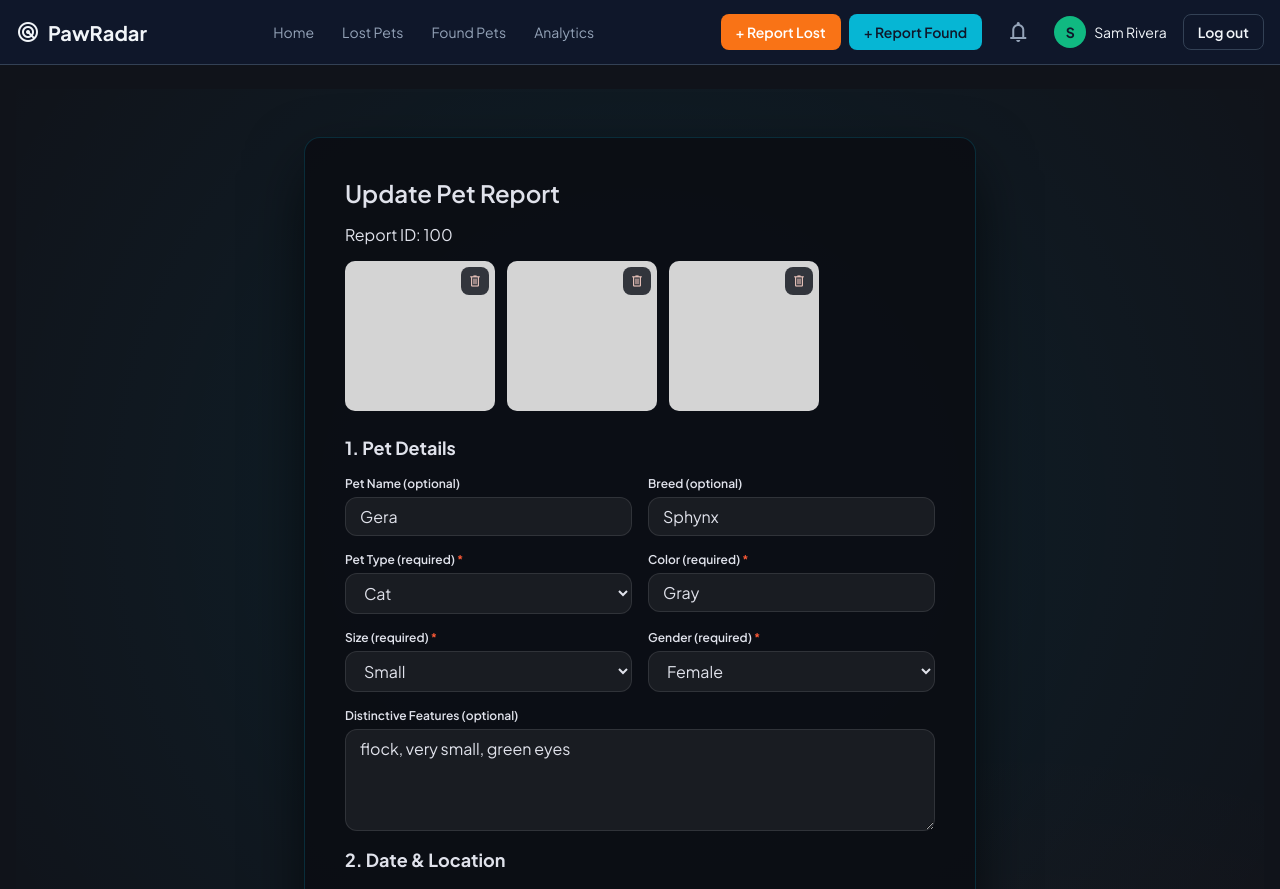
Test: UpdateReportPage › 10. increases available photo slots when an existing photo is removed
The width and height of the screenshot is (1280, 889).
Click the button named "Remove photo 1": (475, 281) [461,267,489,295]
(page scrolled)
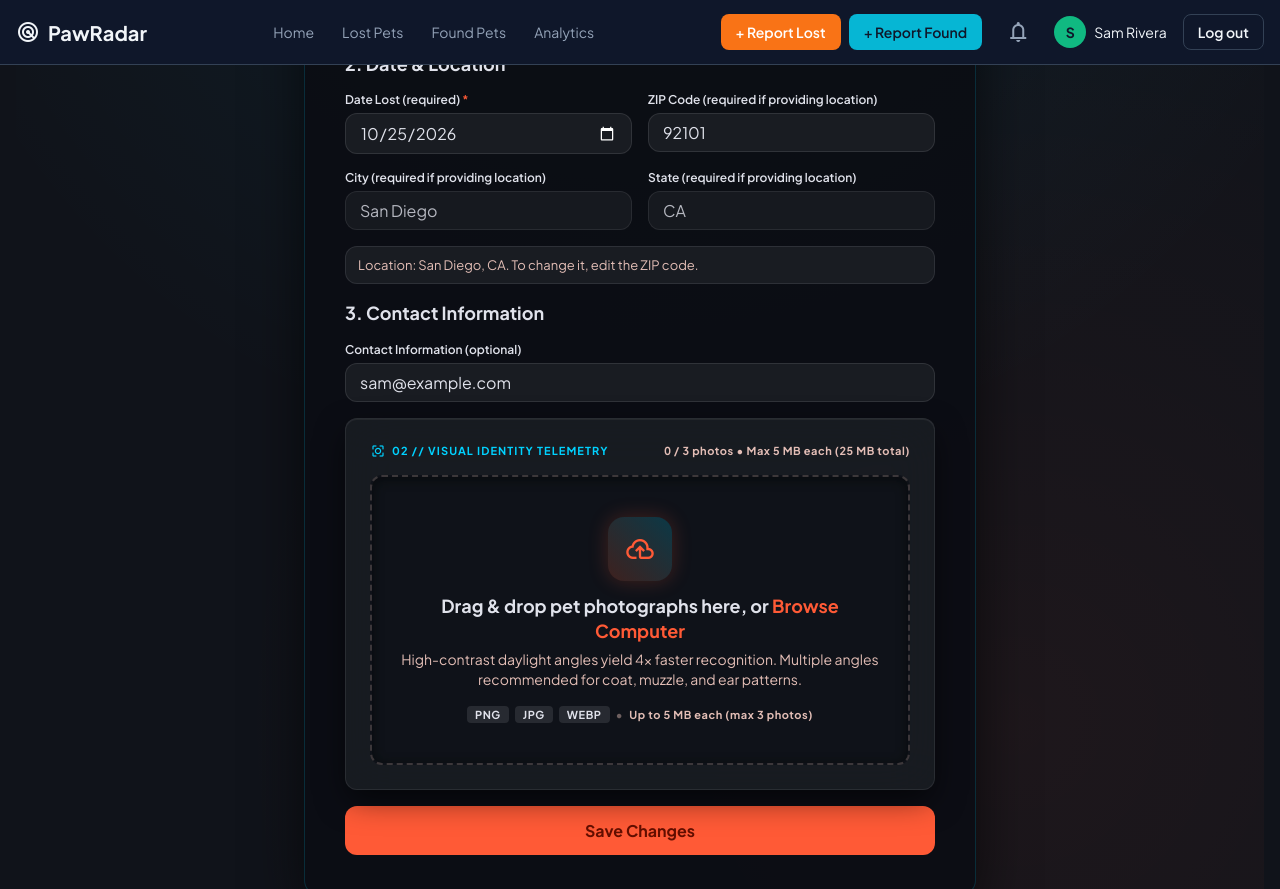
Expected: the text "0 / 3 photos • Max 5 MB each (25 MB total)" is shown, [664,444,910,457]
